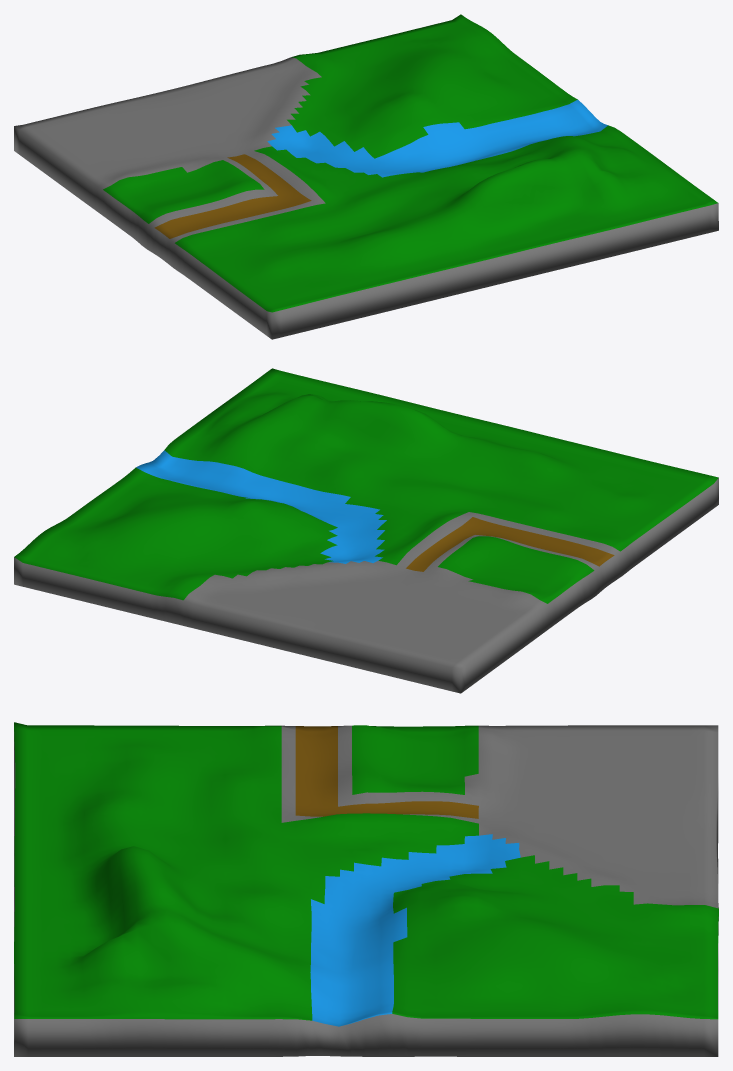
The model's file is ScavengersMap.fbx.
The picture shows the model from 3 angles, top to bottom: view 1: azimuth 30°, elevation 25°; view 2: azimuth 150°, elevation 25°; view 3: azimuth 270°, elevation 25°; orthographic projection. The views are drawn at different scales.
Parts seen in each view (by area): view 1: Map; view 2: Map; view 3: Map.
Part boxes in pixels (x1,y1,x2,y2): Map: (14, 14, 718, 339); Map: (14, 368, 718, 693); Map: (14, 722, 718, 1056).
Size of the model in its own units: 10028 by 1382 by 10012.
